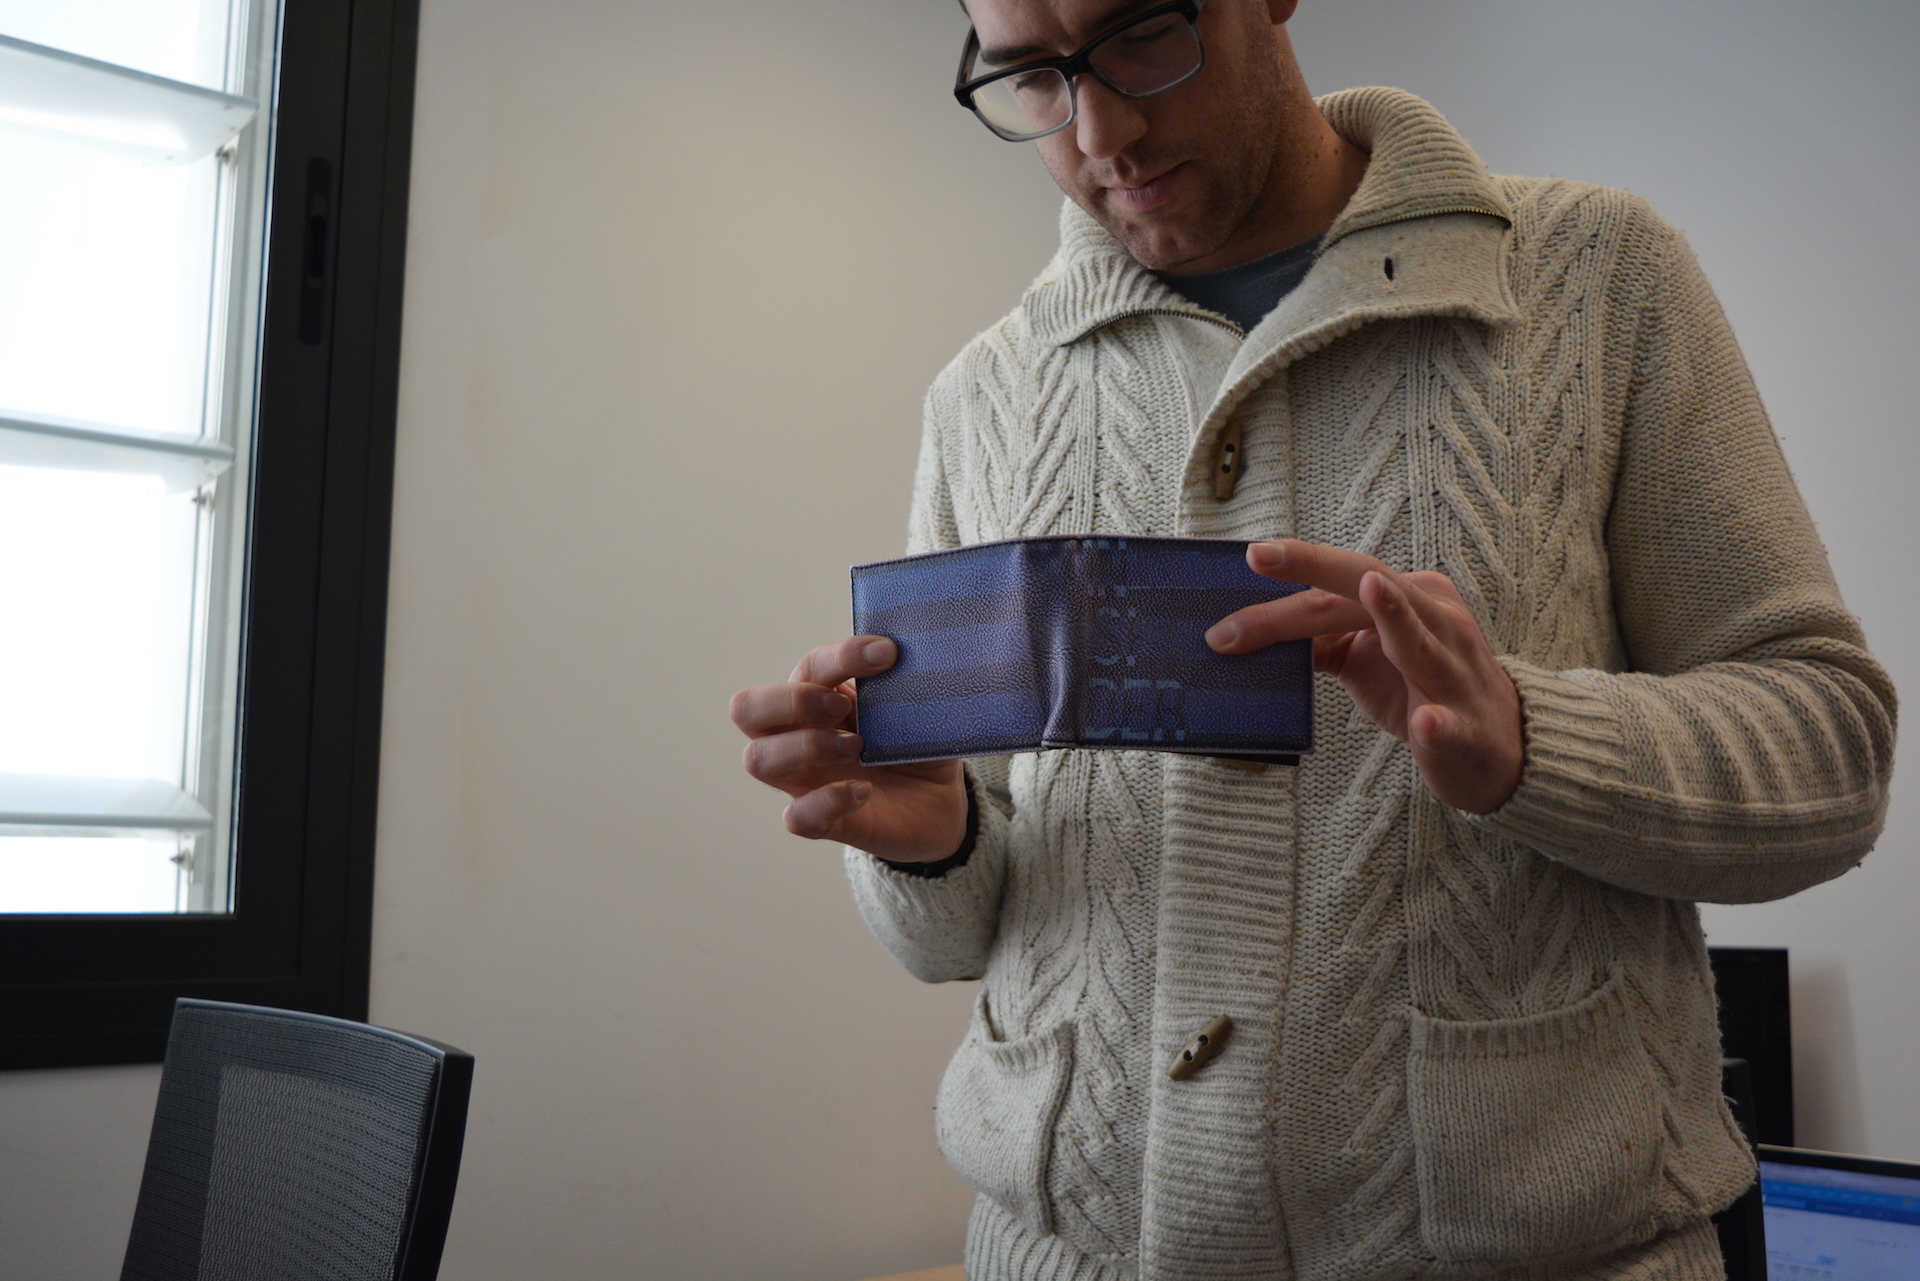monedero: (846, 530, 1321, 771)
